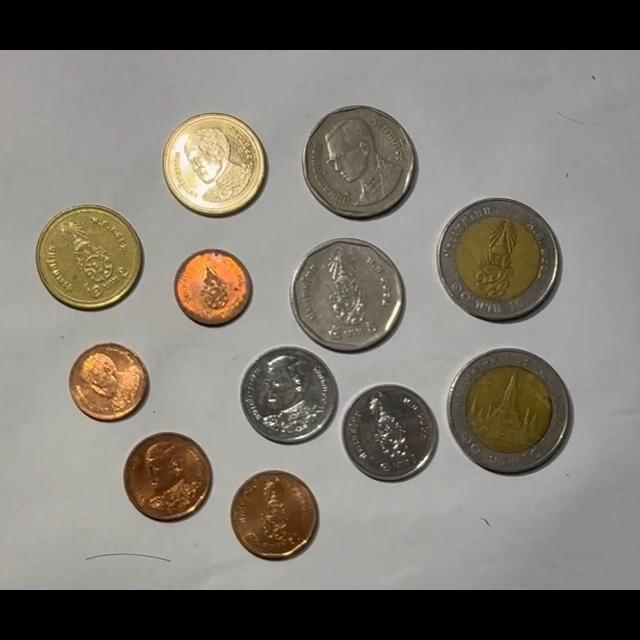1-baht: (341, 383, 439, 482), (240, 346, 337, 444)
10-baht: (446, 349, 572, 476), (437, 198, 561, 321)
2-baht: (36, 205, 142, 311), (162, 113, 268, 218)
25-satang: (69, 343, 148, 422), (174, 249, 252, 326)
5-baht: (301, 105, 418, 219), (291, 237, 406, 352)
50-satang: (230, 470, 319, 559), (124, 433, 212, 521)
